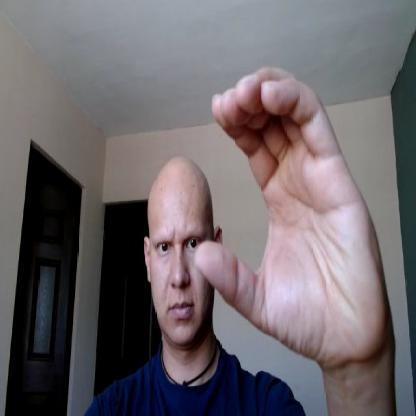C: (194, 64, 388, 364)
